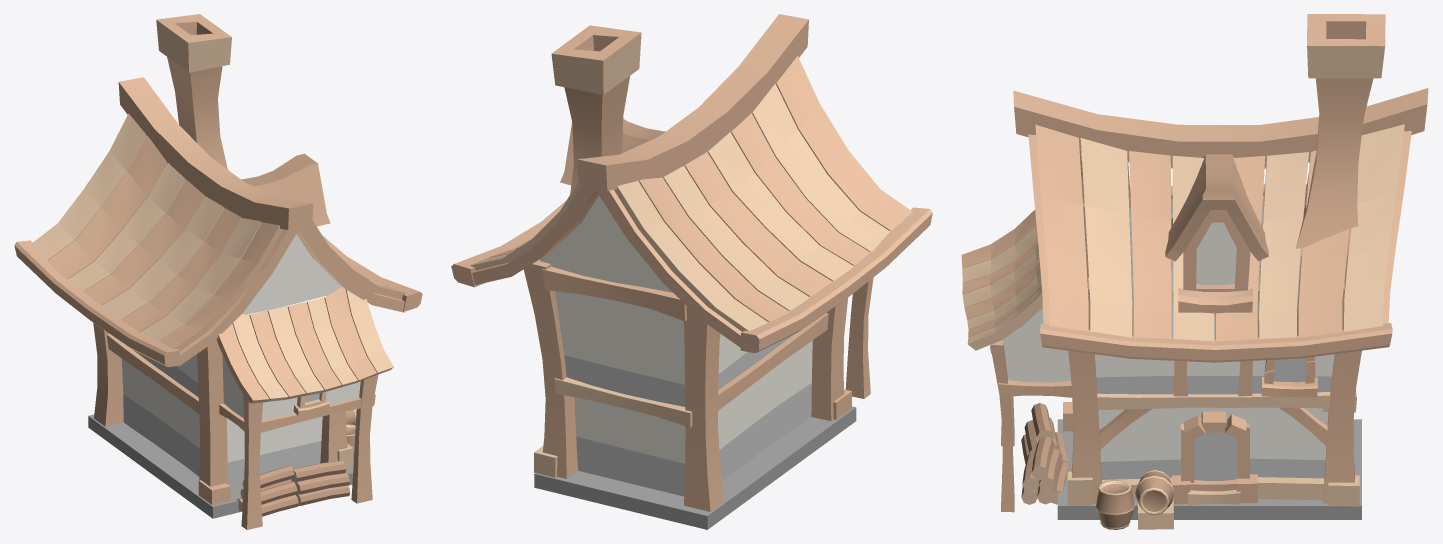
Rendered from house01level03.fbx.
3 renders of one model, left to right at view 1: azimuth 30°, elevation 25°; view 2: azimuth 150°, elevation 25°; view 3: azimuth 270°, elevation 25°, orthographic. The views are drawn at different scales.
Visible parts, largest first — view 1: house1_04, house1_02, house1_03, polySurface345, house1_01_base, polySurface268, polySurface343, polySurface342; view 2: house1_02, house1_04, house1_03, house1_01_base, polySurface345, polySurface343; view 3: house1_04, house1_02, house1_03, polySurface345, polySurface343, house1_01_base, polySurface332, polySurface271, polySurface268, polySurface339.
Boxes of the visible parts, x1,y1,x2,y2 form: house1_04: (31, 113, 406, 403); house1_02: (14, 77, 422, 529); house1_03: (121, 234, 360, 489); polySurface345: (156, 14, 231, 169); house1_01_base: (88, 414, 353, 518); polySurface268: (236, 460, 350, 516); polySurface343: (241, 153, 330, 226); polySurface342: (293, 391, 329, 415); house1_02: (451, 14, 932, 511); house1_04: (470, 56, 912, 331); house1_03: (539, 196, 812, 496); house1_01_base: (534, 406, 856, 529); polySurface345: (551, 25, 641, 194); polySurface343: (560, 119, 665, 185); house1_04: (961, 124, 1404, 350); house1_02: (990, 88, 1428, 512); house1_03: (1002, 195, 1334, 479); polySurface345: (1296, 14, 1385, 256); polySurface343: (1165, 154, 1268, 314); house1_01_base: (1057, 419, 1361, 519); polySurface332: (1181, 411, 1249, 482); polySurface271: (1095, 470, 1174, 529); polySurface268: (1021, 403, 1069, 504); polySurface339: (1261, 356, 1317, 397).
Size of the model in its own units: 9.07 by 12.65 by 11.5.
